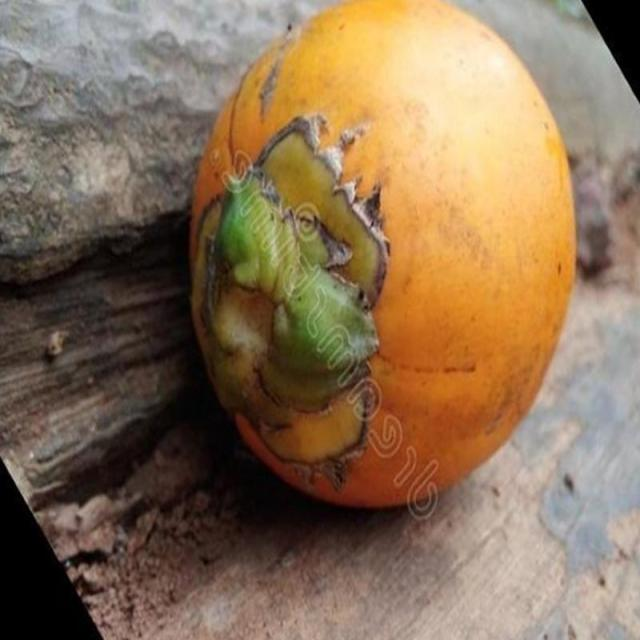good: (186, 0, 581, 515)
